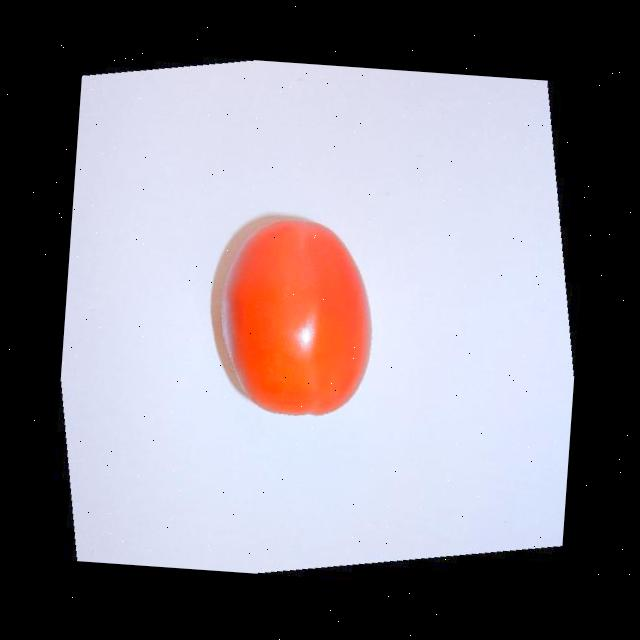tomato: (210, 204, 386, 426)
